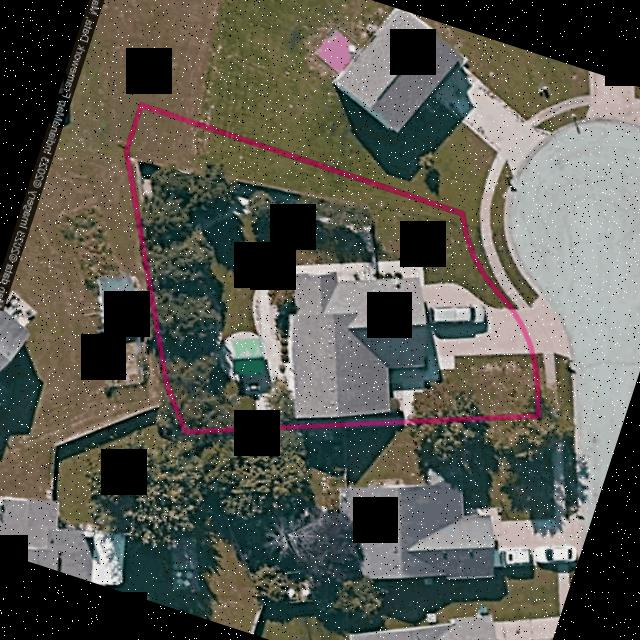Driveway: (421, 282, 526, 370)
Extra Driveway: (518, 297, 569, 355)
Extra Lawn: (492, 219, 537, 305), (466, 215, 495, 285), (555, 356, 573, 415)
Extra Sidewalk: (478, 218, 526, 308), (542, 354, 555, 384)
House: (285, 270, 426, 418)
Other: (223, 331, 270, 398)
Sidewalk: (252, 259, 422, 423), (389, 330, 439, 418)
